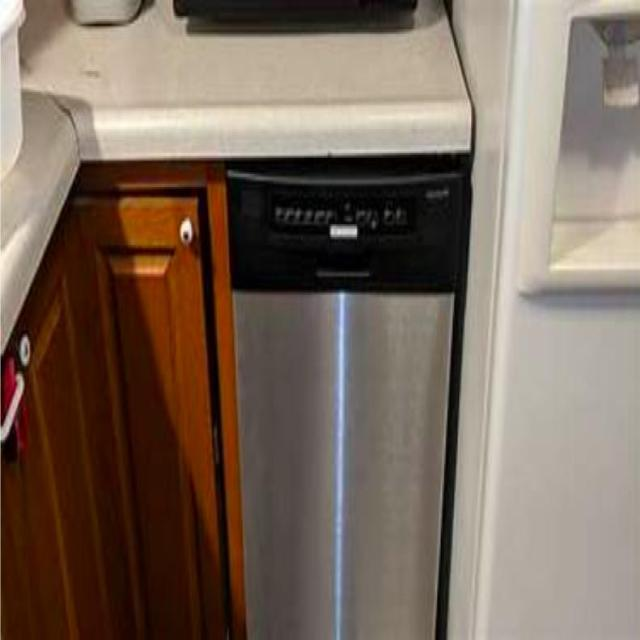dishwasher: (227, 160, 468, 638)
